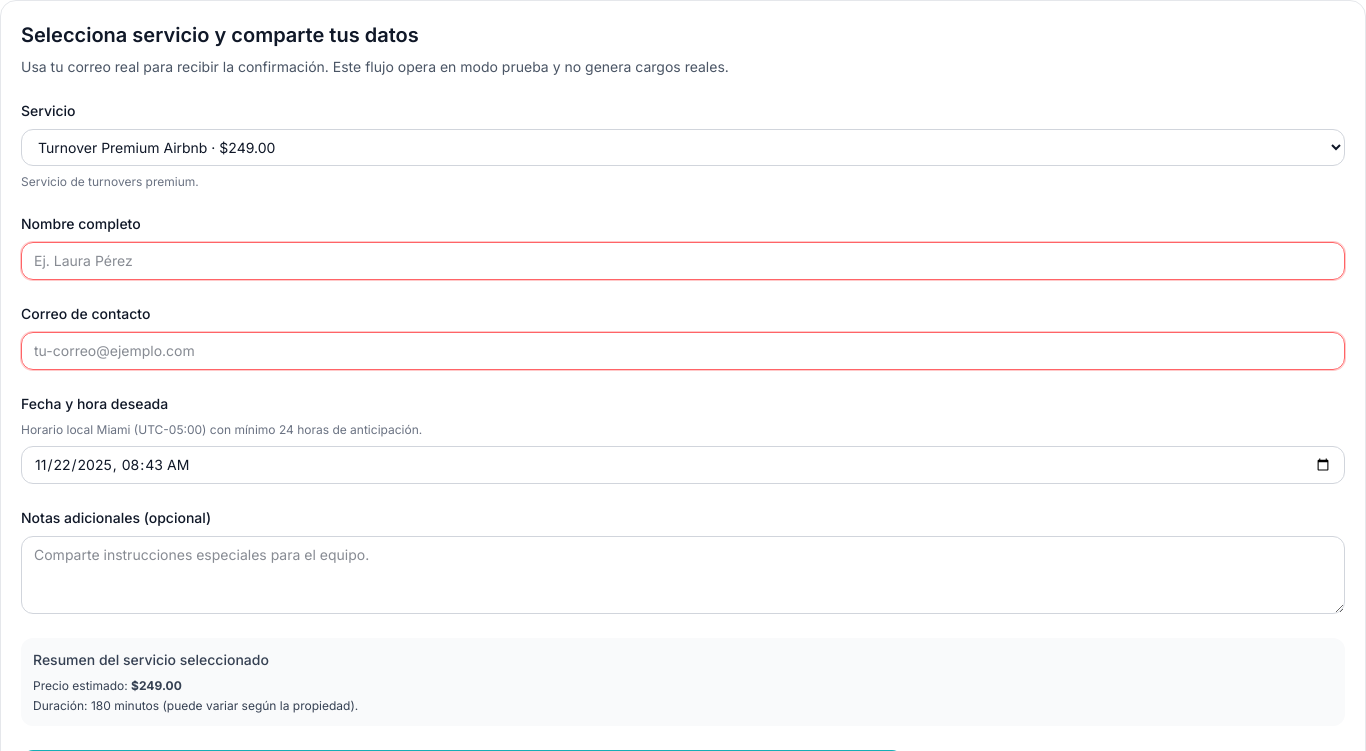
CheckoutClient › gestiona fallos al crear la intención de pago y muestra referencia
This screenshot has width=1366, height=751.
Type "Laura Checkout" into the field with placeholder "Ej. Laura Pérez".
click(683, 261); type("Laura Checkout")  # box [21, 242, 1345, 280]
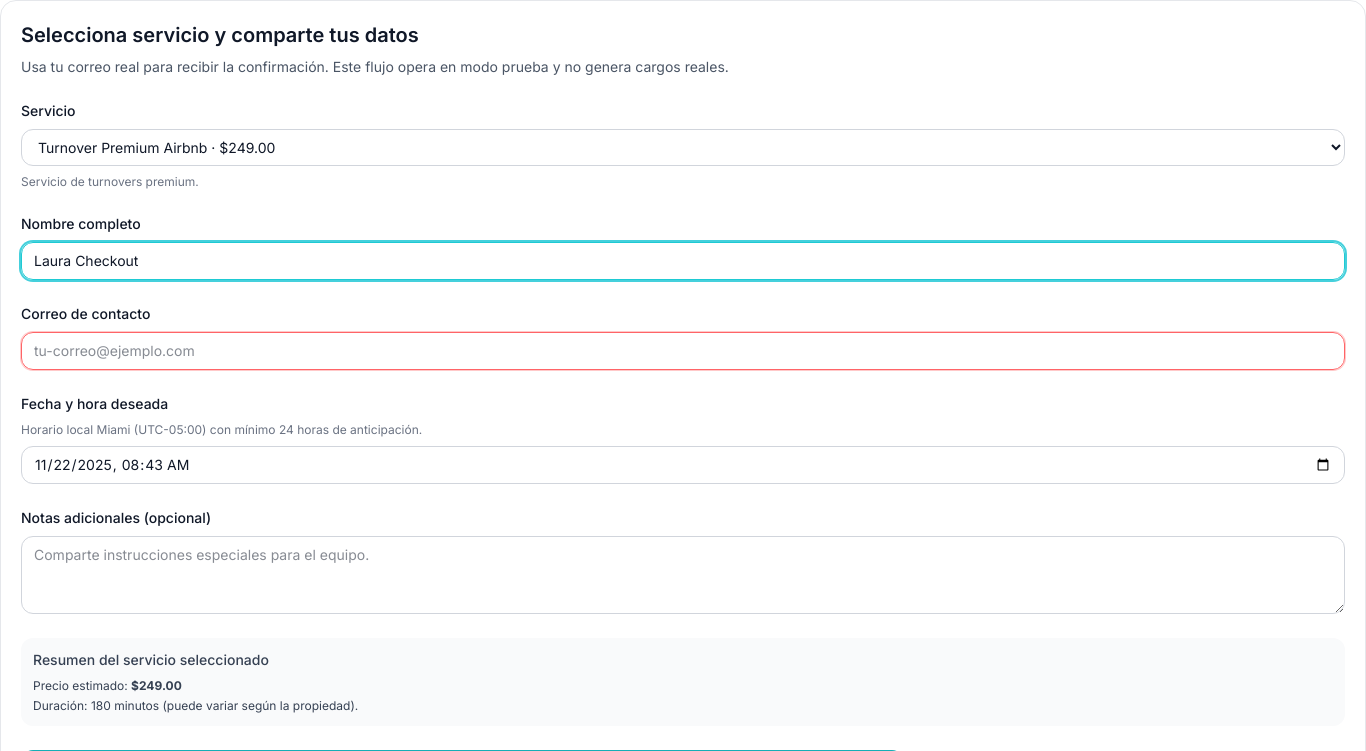
Type "checkout@example.com" into the field with placeholder "tu-correo@ejemplo.com".
click(683, 351); type("checkout@example.com")  # box [21, 332, 1345, 370]
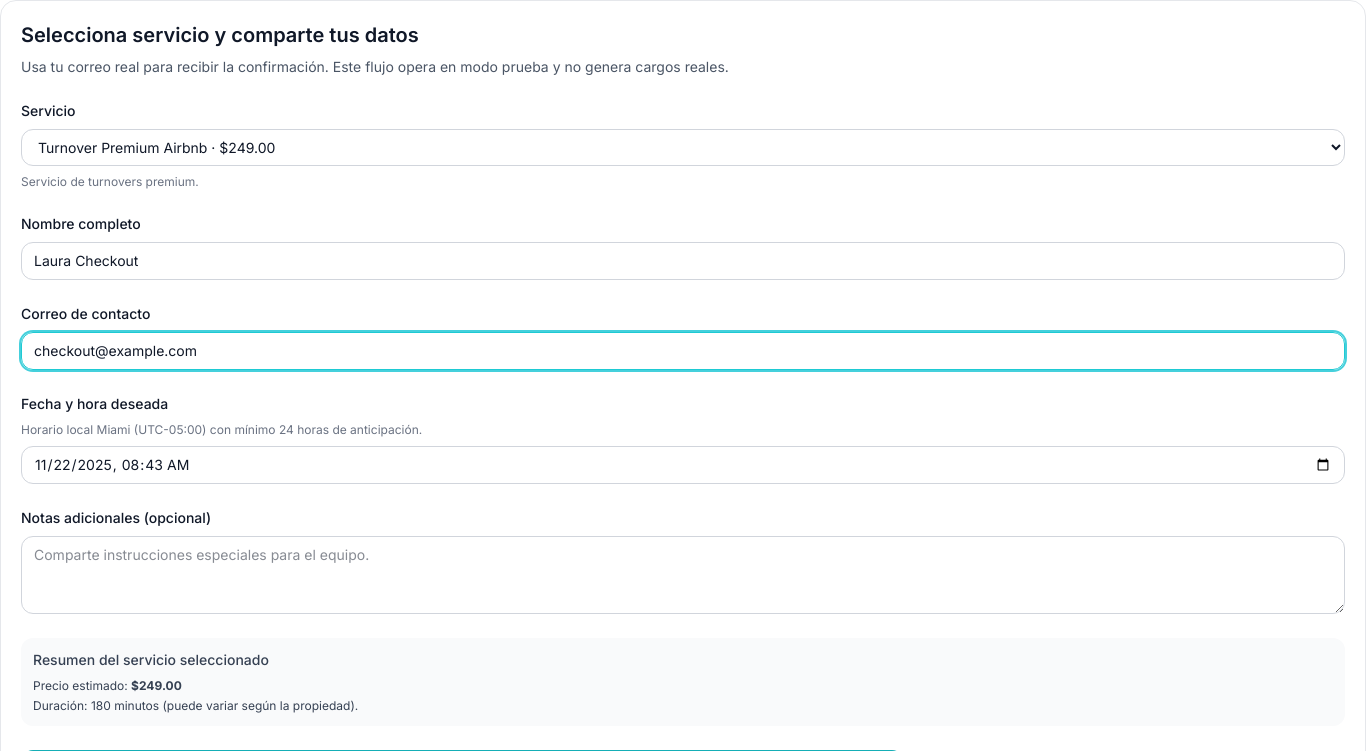
Replace the text in the field labelled "Fecha y hora deseada" with "2025-12-31T10:00" at (683, 465), box [21, 446, 1345, 484]
(page scrolled)
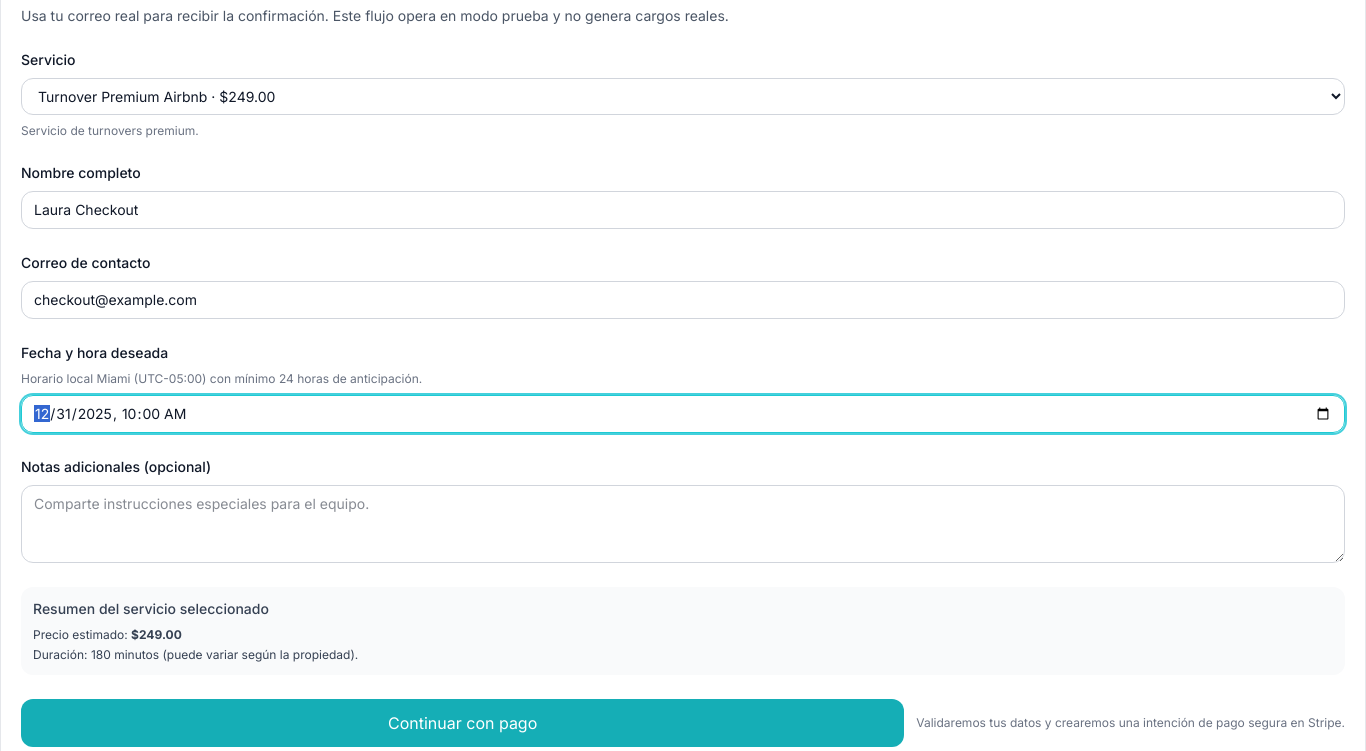
Click the button "Continuar con pago".
click(463, 723)  # box [21, 699, 904, 747]
(page scrolled)
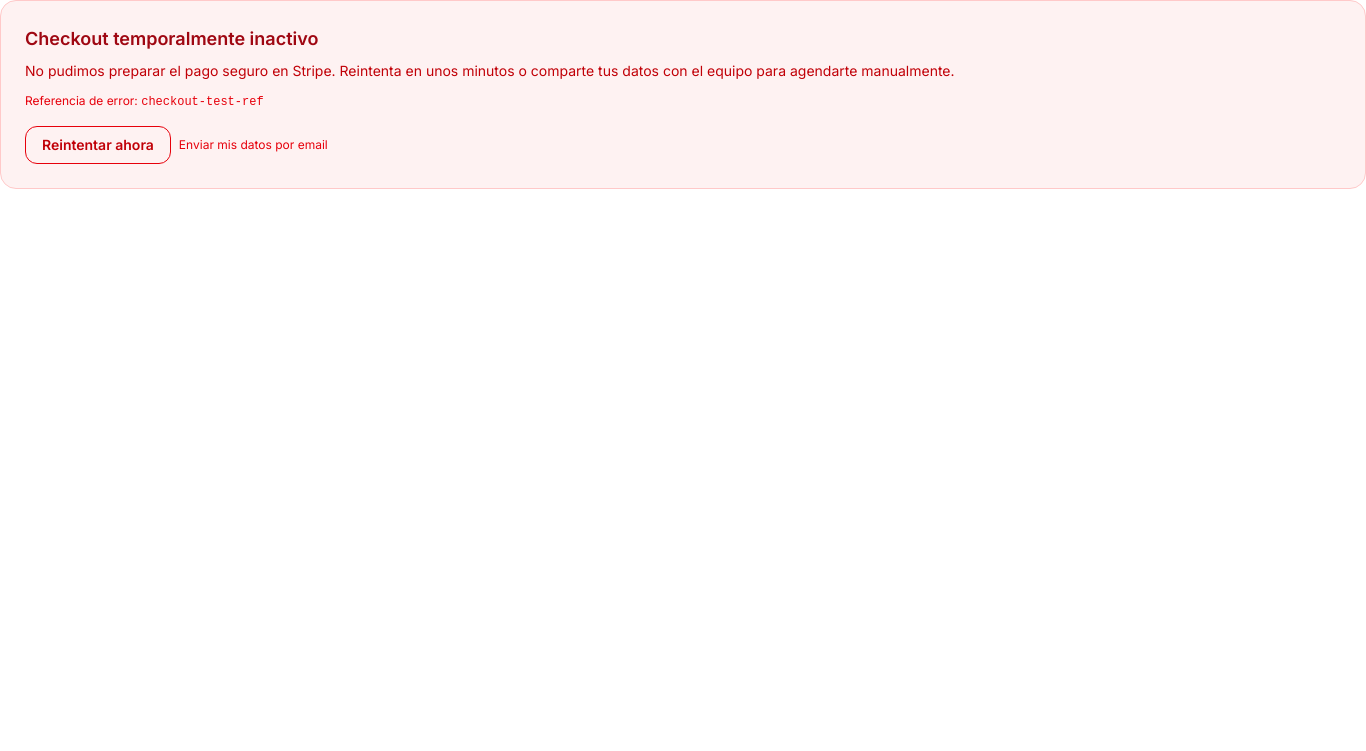
Now the heading "Checkout temporalmente inactivo" is shown, box [25, 28, 318, 49]
Now the text "checkout-test-ref" is shown, box [141, 95, 264, 109]
